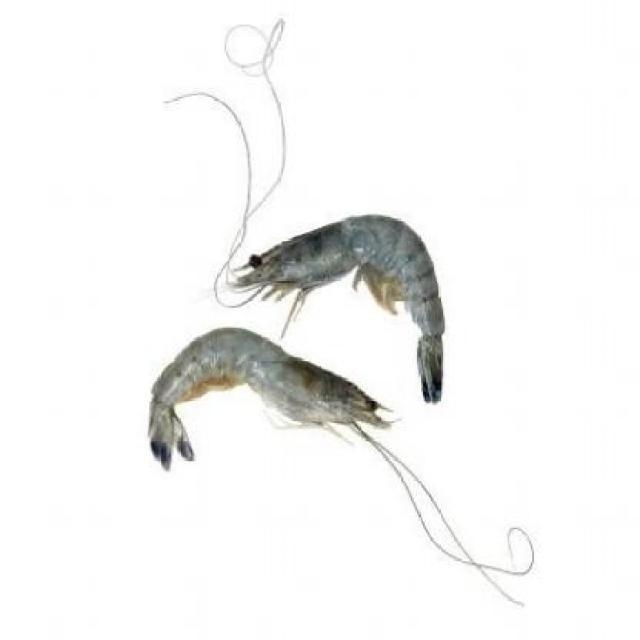shrimp: (210, 205, 454, 407), (140, 321, 408, 472)
